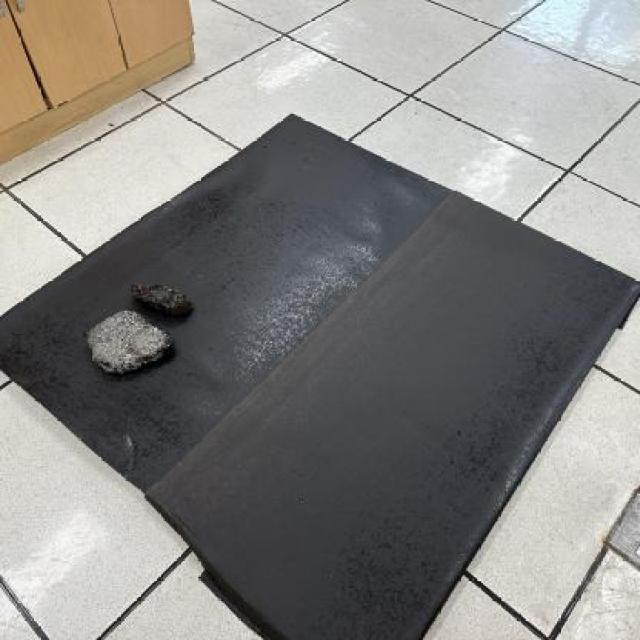Road Debris: (82, 312, 140, 368), (133, 283, 189, 312)
